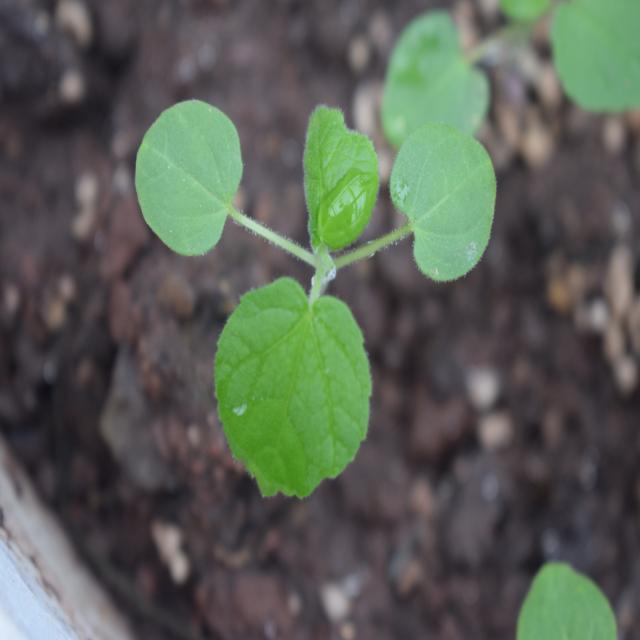abutilon theophrasti: (137, 88, 500, 504)
